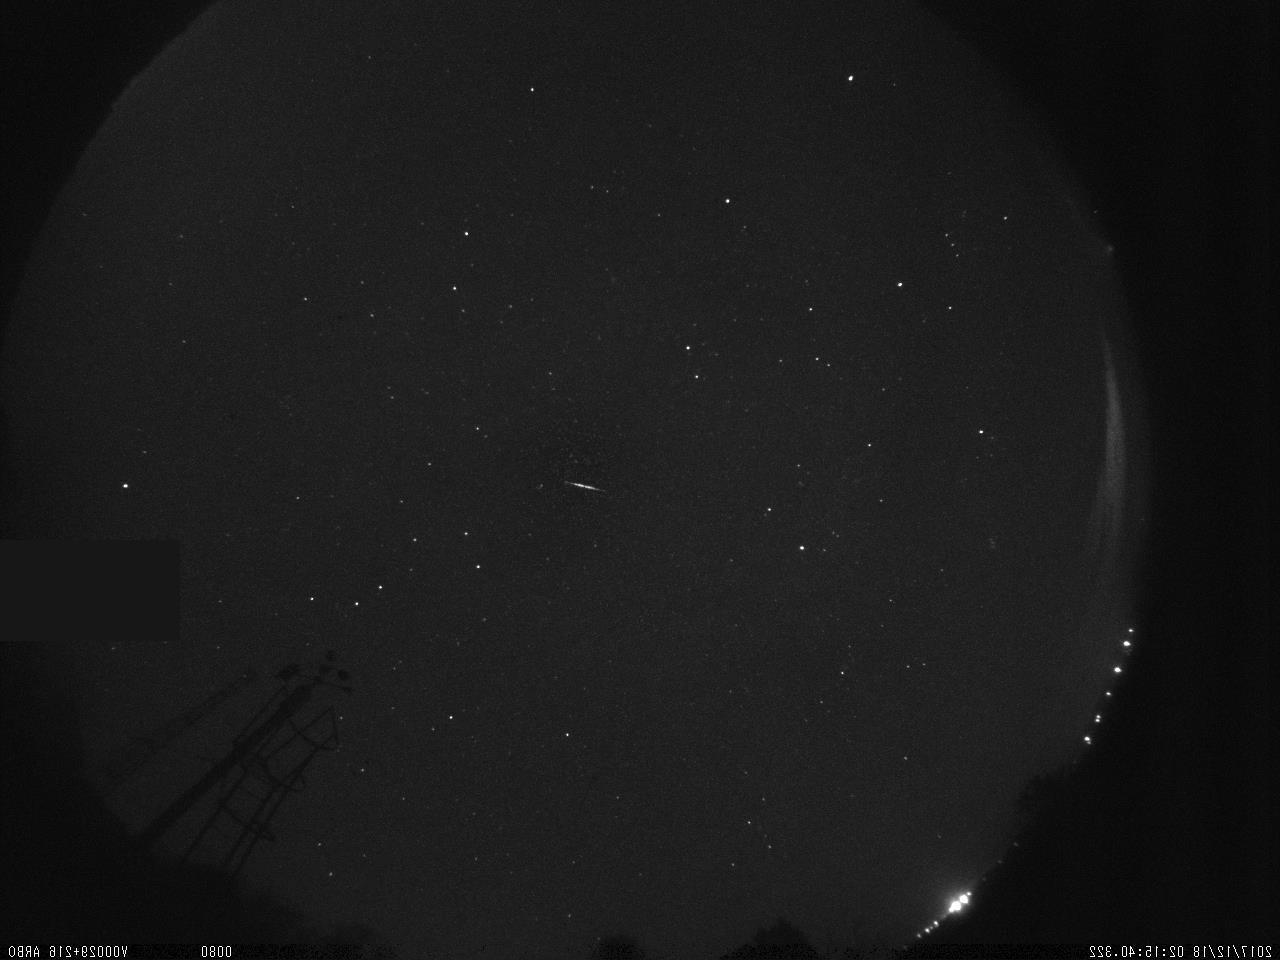meteor: (558, 471, 609, 503)
